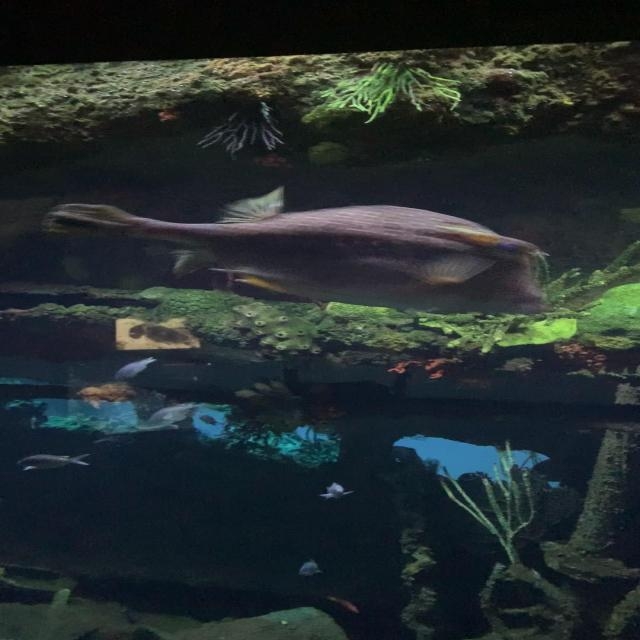fish: (40, 186, 550, 314), (130, 401, 203, 435), (15, 452, 92, 472), (113, 356, 158, 383), (323, 593, 361, 616), (319, 480, 355, 502), (296, 557, 324, 578)
